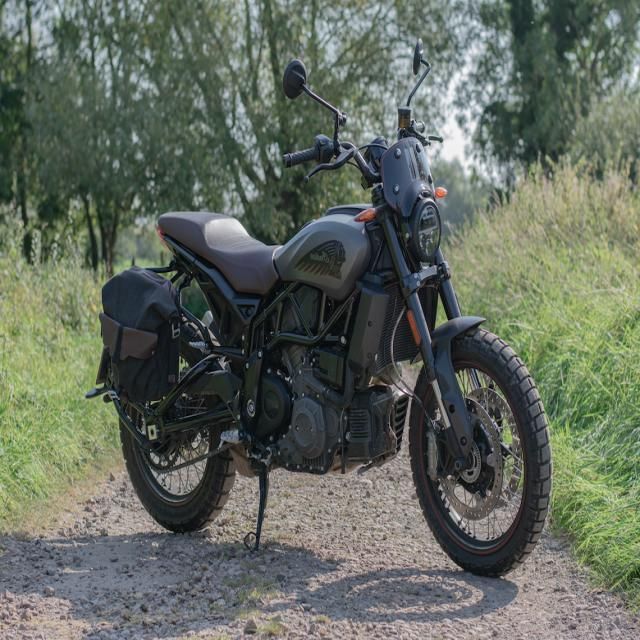motorcycle: (89, 41, 551, 576)
